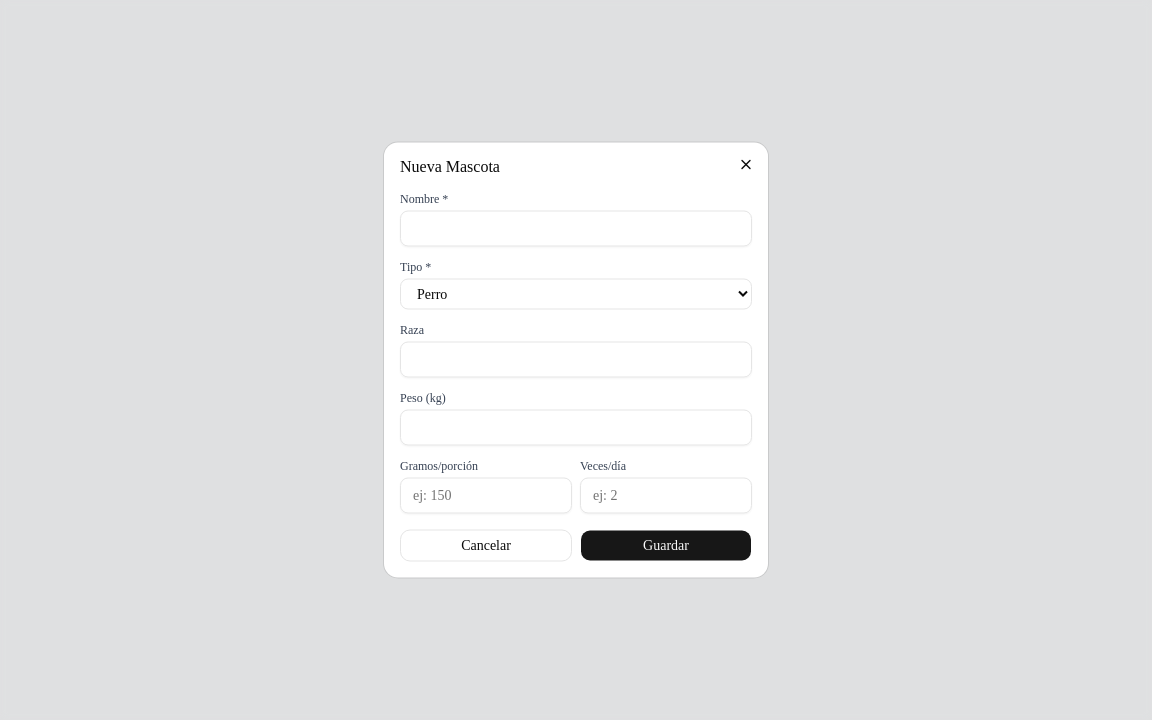
Test: ModalMascotaCreate › C-25: muestra advertencia y deshabilita botón si el nombre ya existe (case-insensitive)
Expected: the text "Ya existe una mascota con este nombre" is not shown
Expected: the button "Guardar" is enabled, [580,530,752,562]
Note: Escribe nombre que coincide (case-insensitive: "luna" coincide con "Luna")
Type "luna" into the field below "Nombre *".
click(576, 228); type("luna")  # box [400,210,752,246]
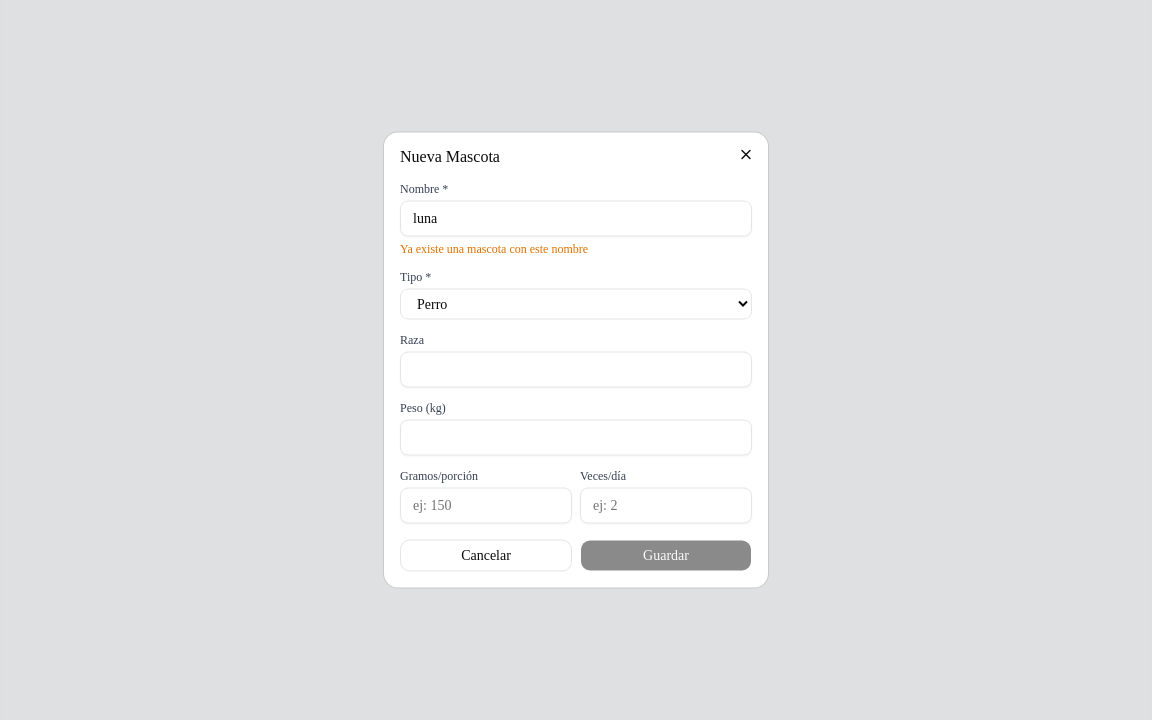
Now the text "Ya existe una mascota con este nombre" is shown, box [400,242,588,256]
Now the button "Guardar" is disabled, box [580,540,752,572]
Note: Cambia a nombre no existente → advertencia desaparece
Replace the text in the field below "Nombre *" with "Max" at (576, 218), box [400,200,752,236]
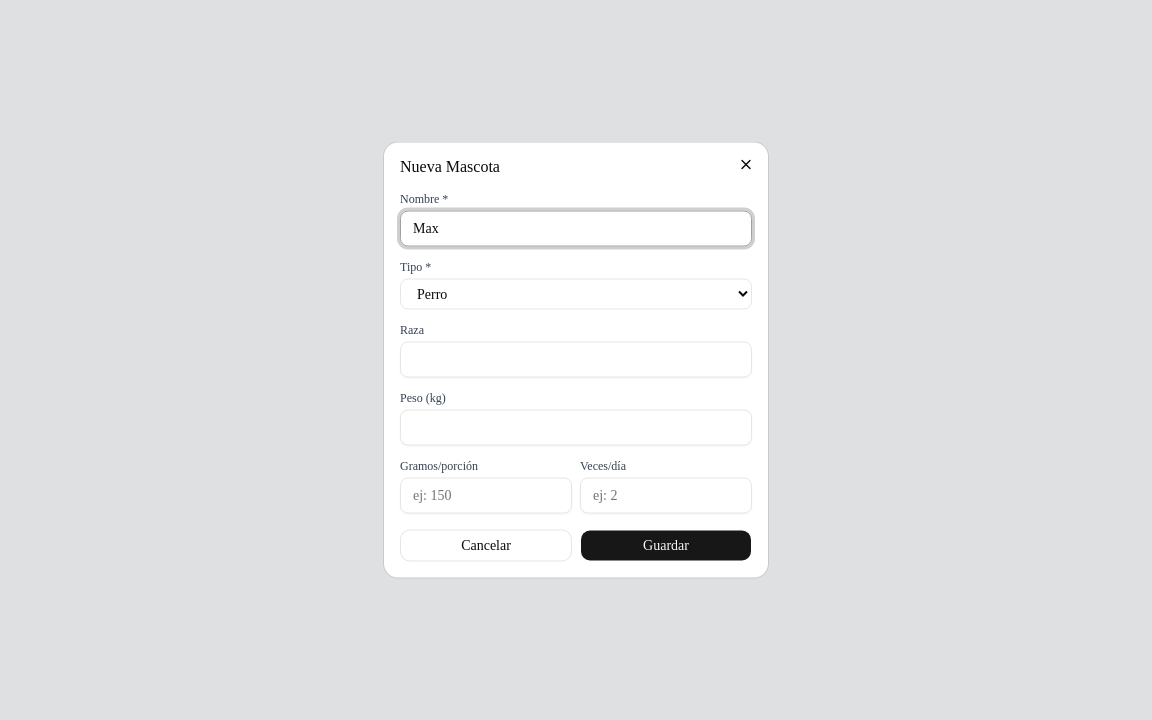
Now the text "Ya existe una mascota con este nombre" is gone
Now the button "Guardar" is enabled, box [580,530,752,562]
